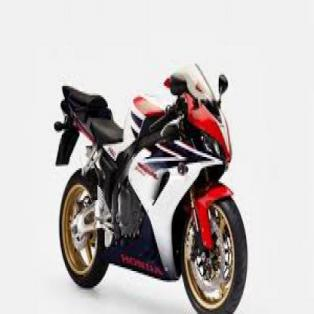Motocicleta: (49, 54, 252, 312)
